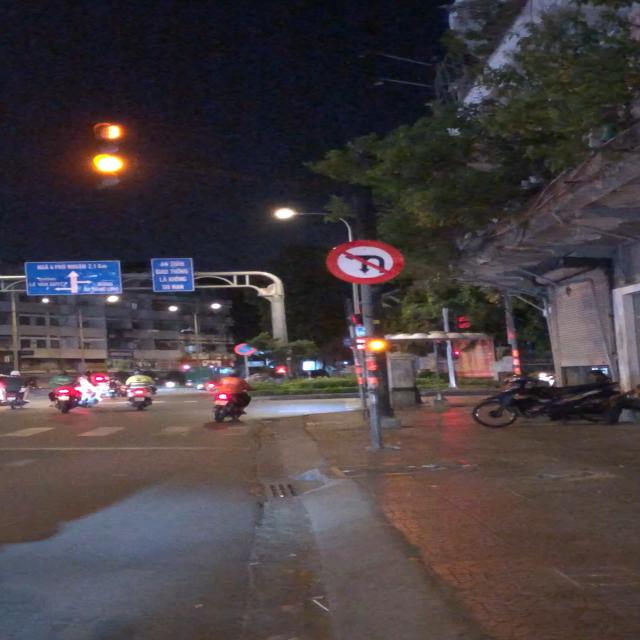Bien bao cam re trai va quay dau: (325, 237, 407, 287)
